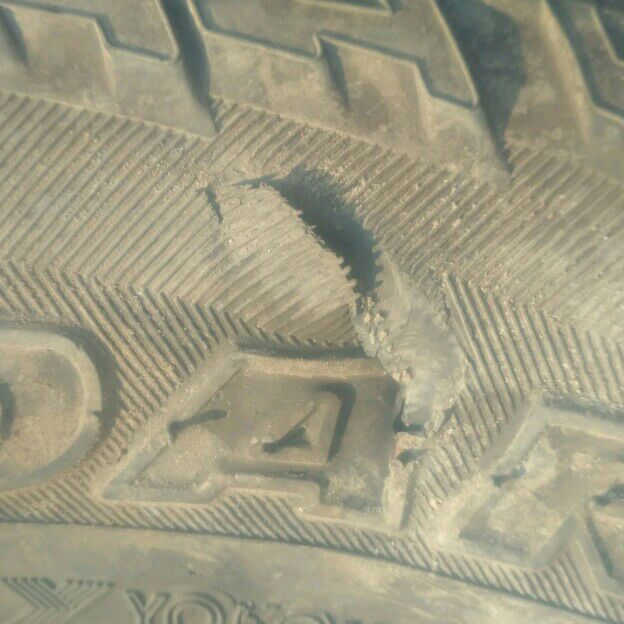cut: (230, 170, 381, 310)
